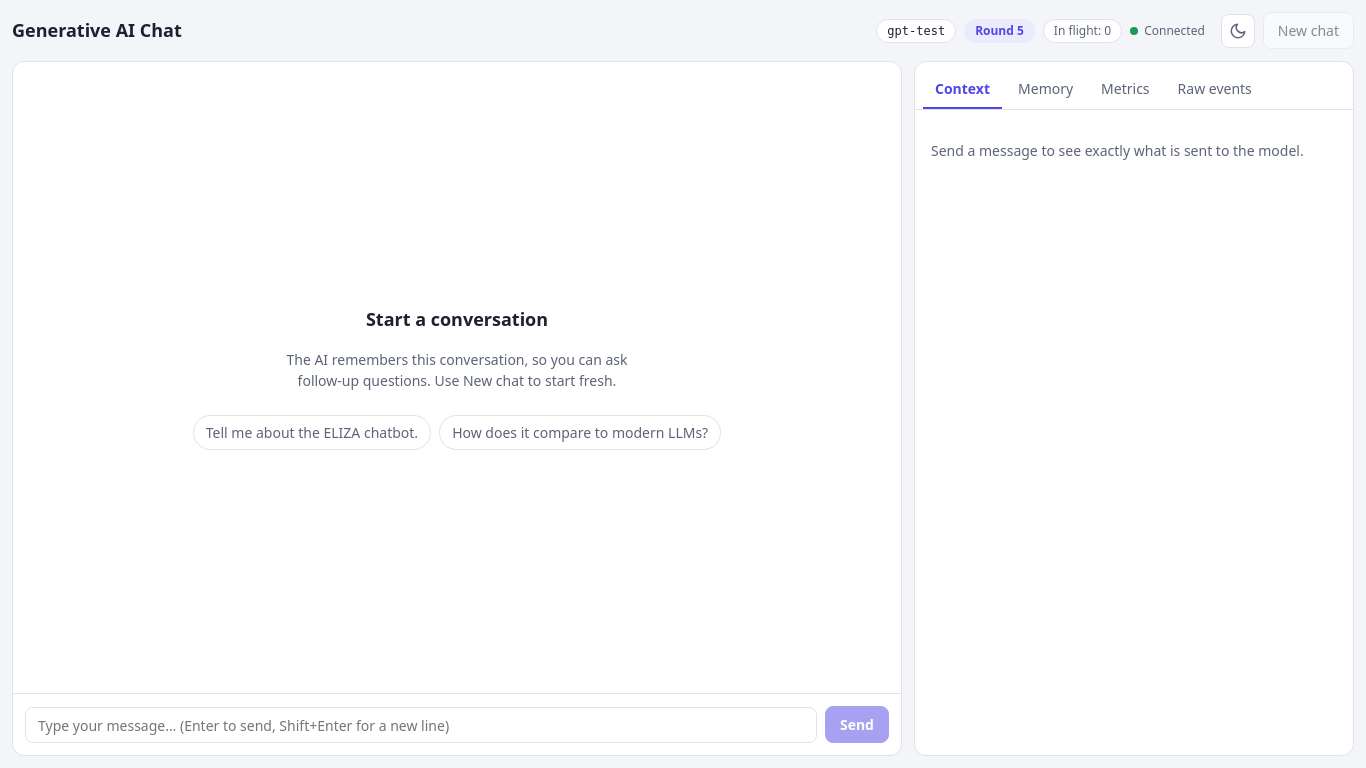
streaming chat › keeps the same session across turns and shows the previous response id
This screenshot has width=1366, height=768.
Type "Tell me about the ELIZA chatbot." into the text box labelled "message" at (421, 725), box top-left (25, 707), bottom-right (817, 743)
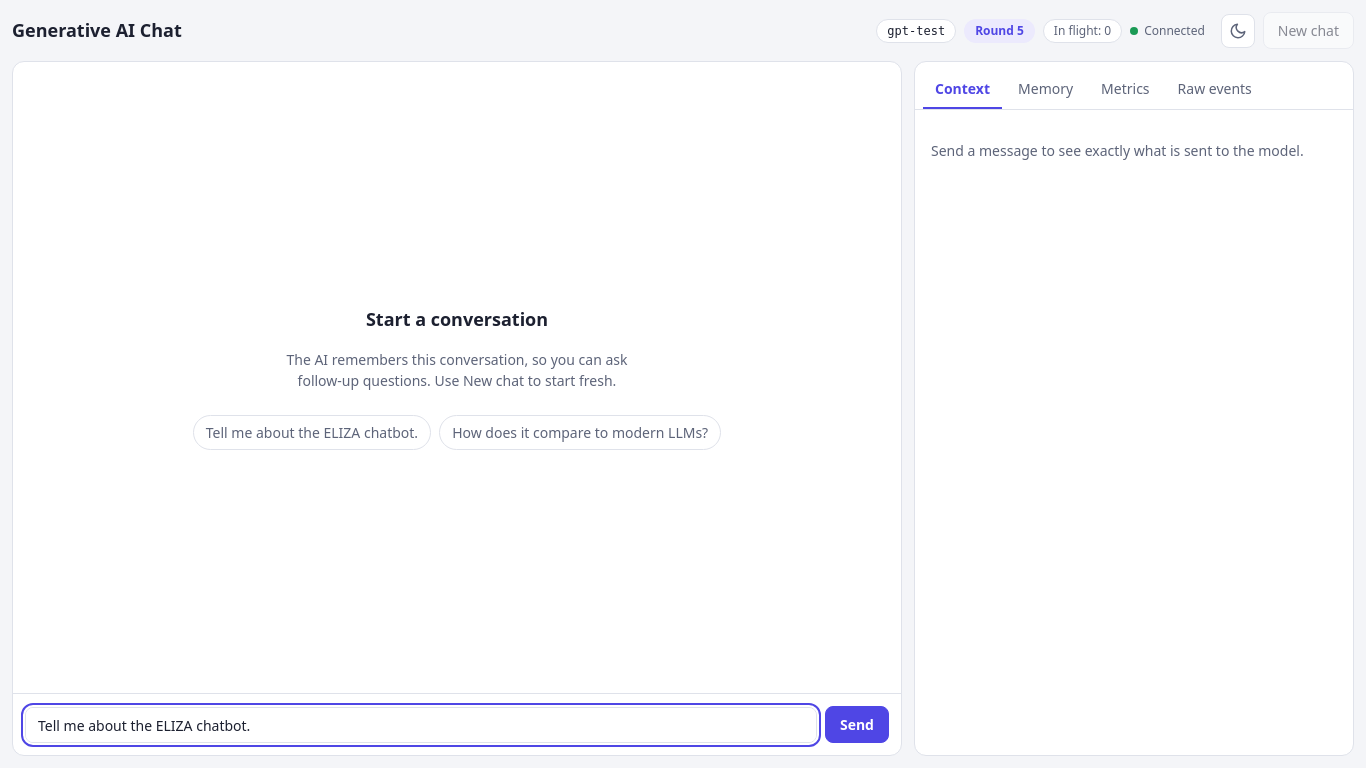
Expected: the button "Send" is enabled
Click the button "Send" at (857, 724), box top-left (825, 706), bottom-right (889, 743)
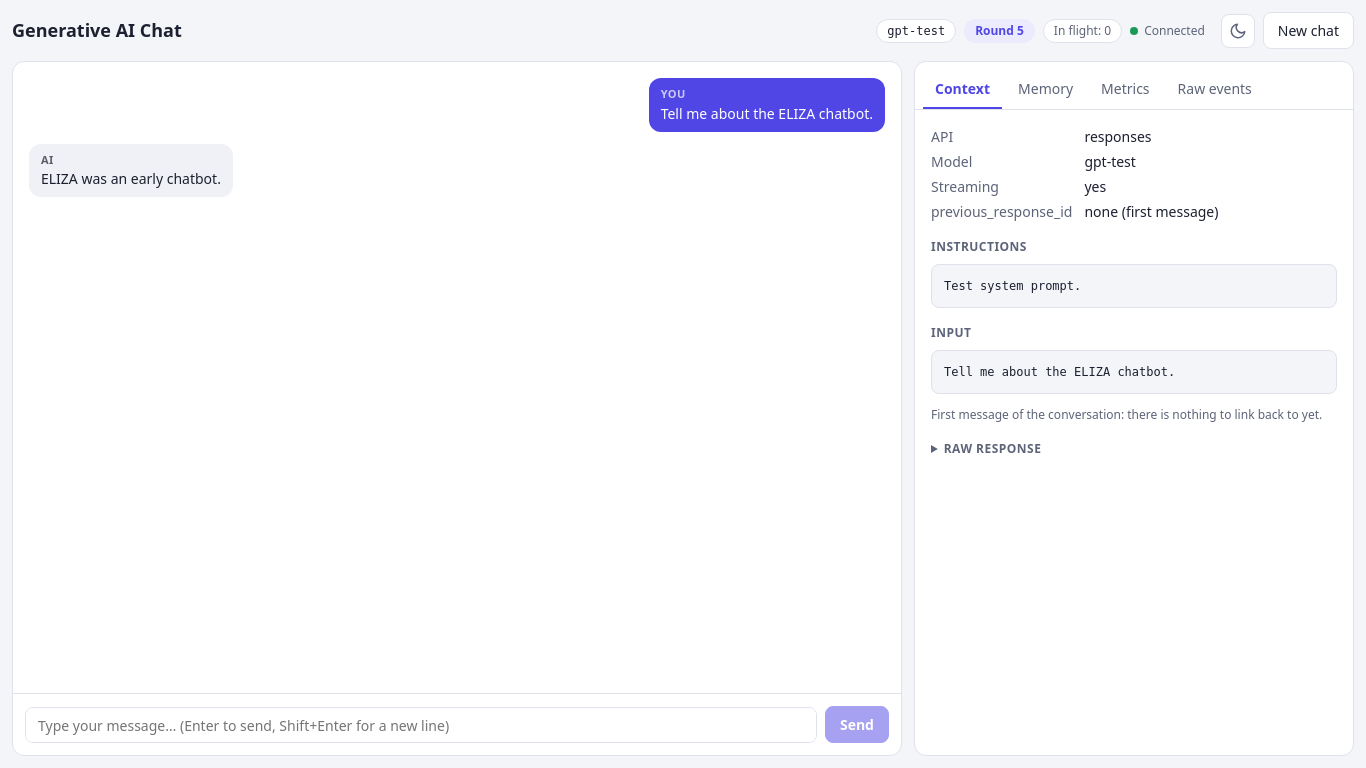
Expected: the text "ELIZA was an early chatbot." is shown, top-left (41, 168), bottom-right (221, 189)
Type "How does it compare to modern LLMs?" into the text box labelled "message" at (421, 725), box top-left (25, 707), bottom-right (817, 743)
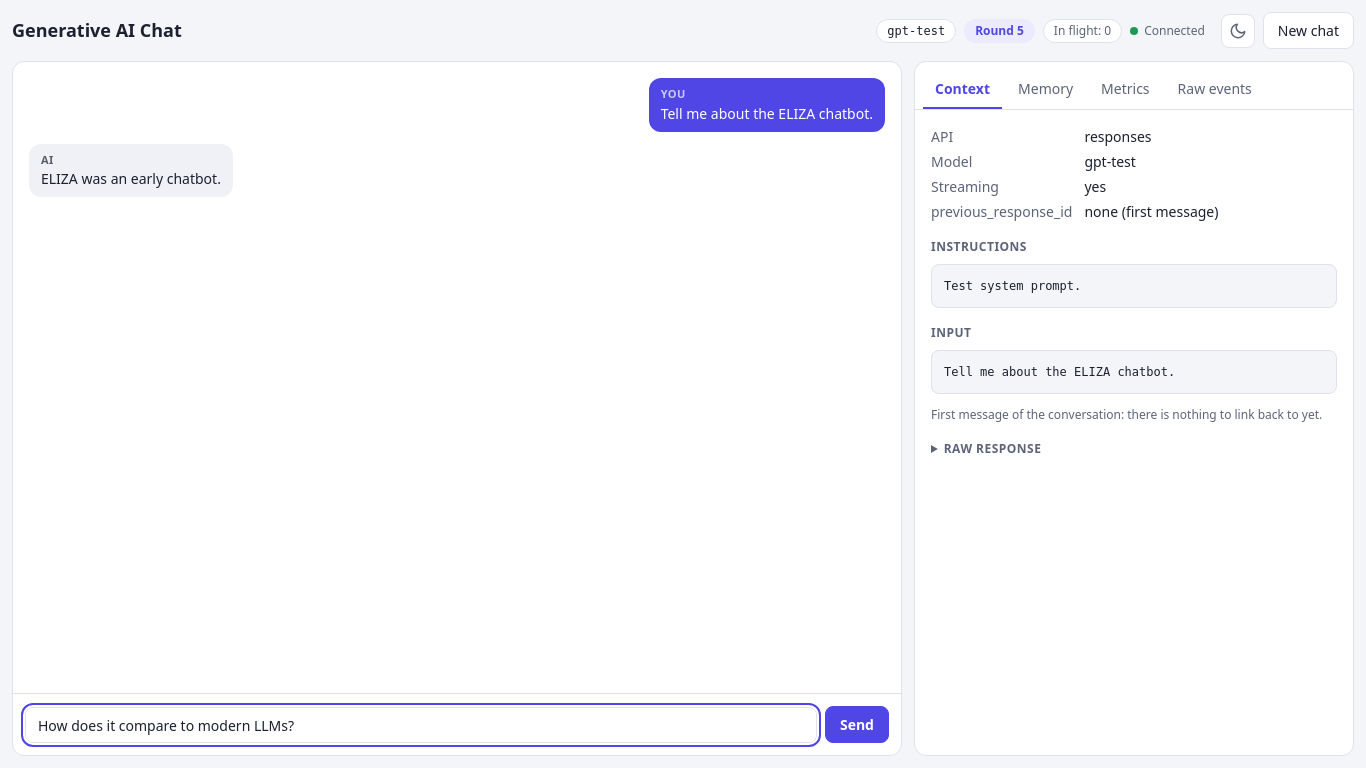
Expected: the button "Send" is enabled
Click the button "Send" at (857, 724), box top-left (825, 706), bottom-right (889, 743)
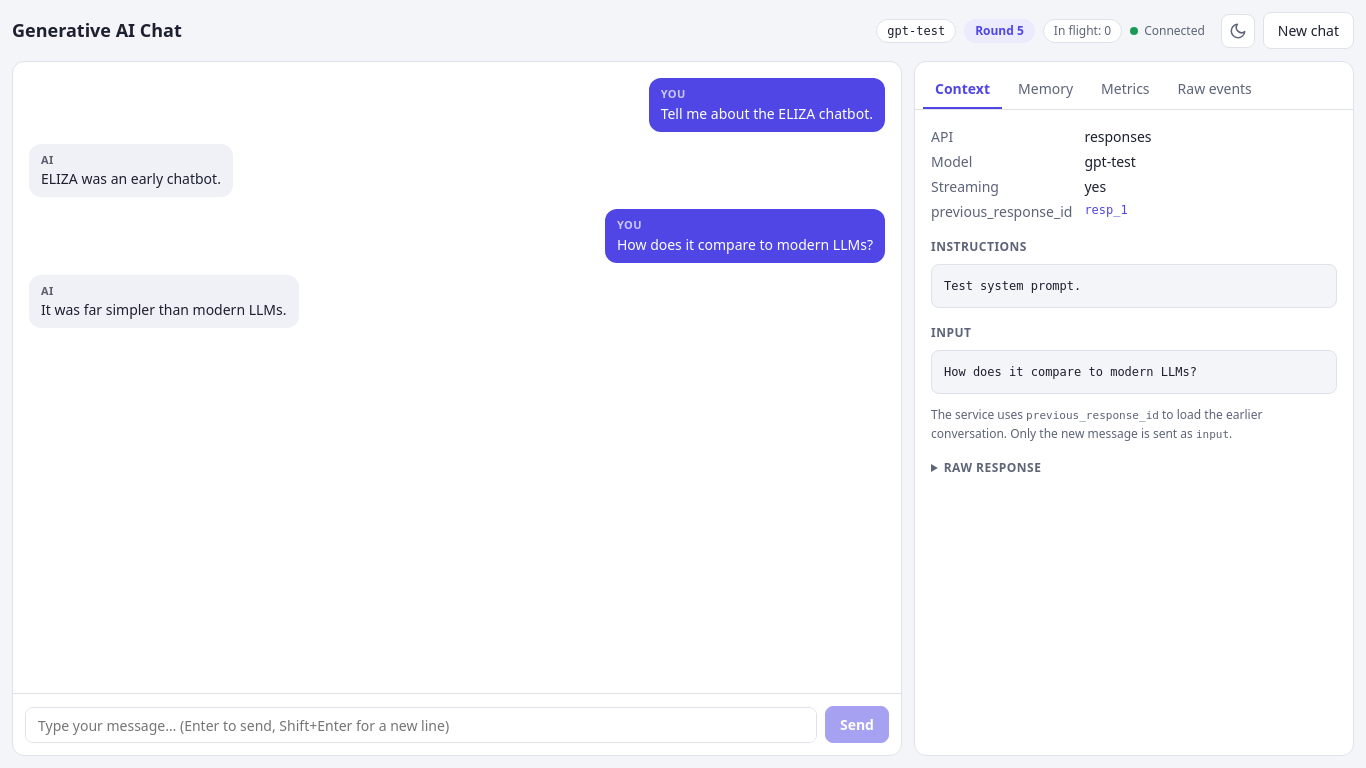
Expected: the text "It was far simpler than modern LLMs." is shown, top-left (41, 299), bottom-right (286, 320)
Expected: the text "resp_1" is shown, top-left (1084, 203), bottom-right (1128, 217)
